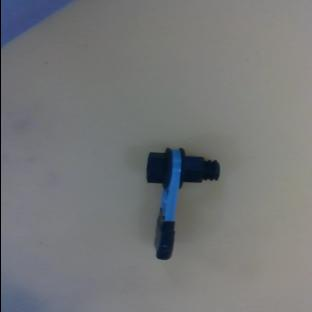part_1_bad: (147, 149, 219, 259)
